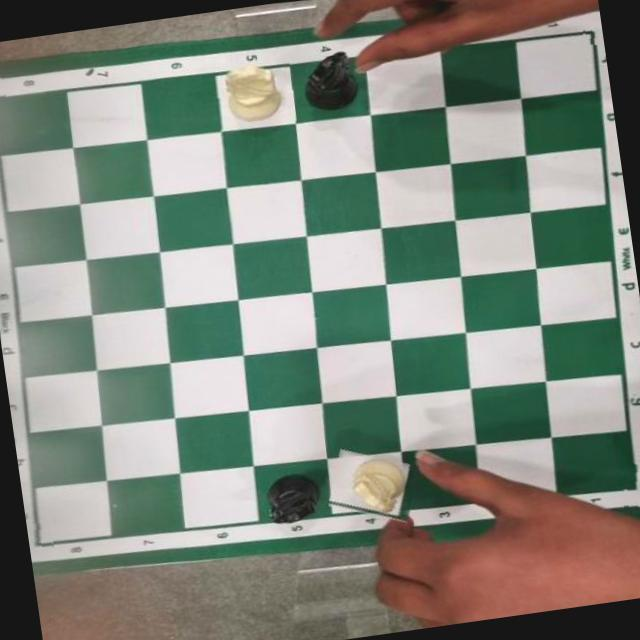chess-table-corners: (26, 520, 56, 560), (618, 461, 640, 511), (580, 15, 604, 46), (0, 77, 7, 114)
